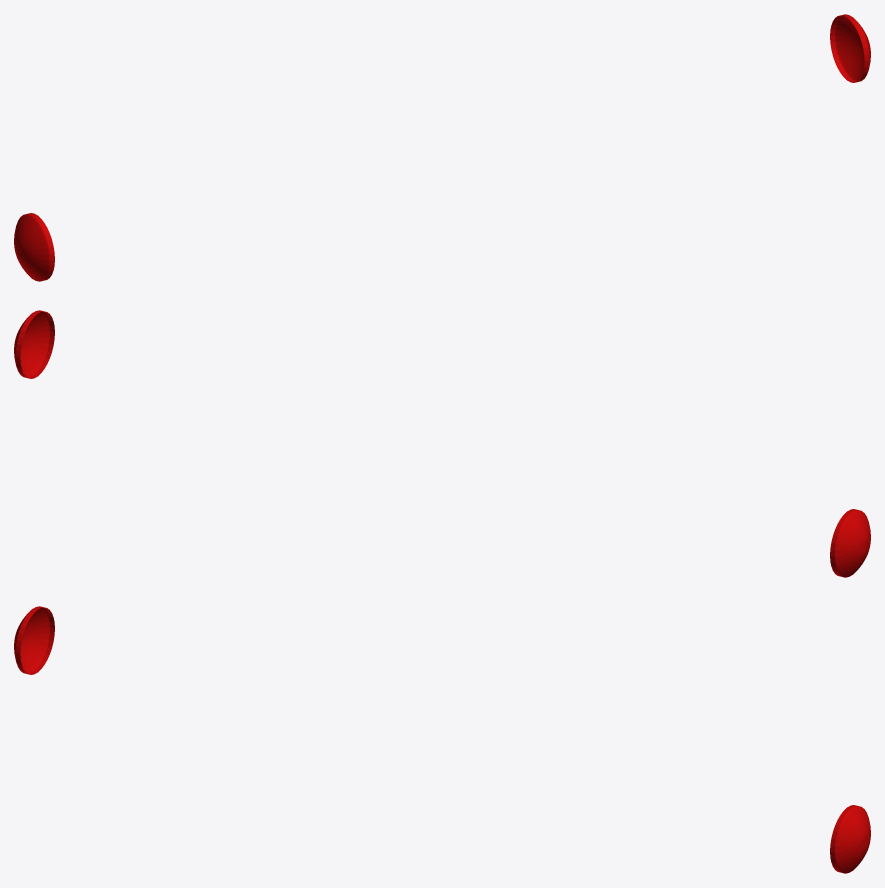
3 renders of one model, top to bottom at view 1: azimuth 30°, elevation 25°; view 2: azimuth 150°, elevation 25°; view 3: azimuth 330°, elevation 25°, orthographic.
Size of the model in its own units: 0.1164 by 0.00827 by 0.00827.
